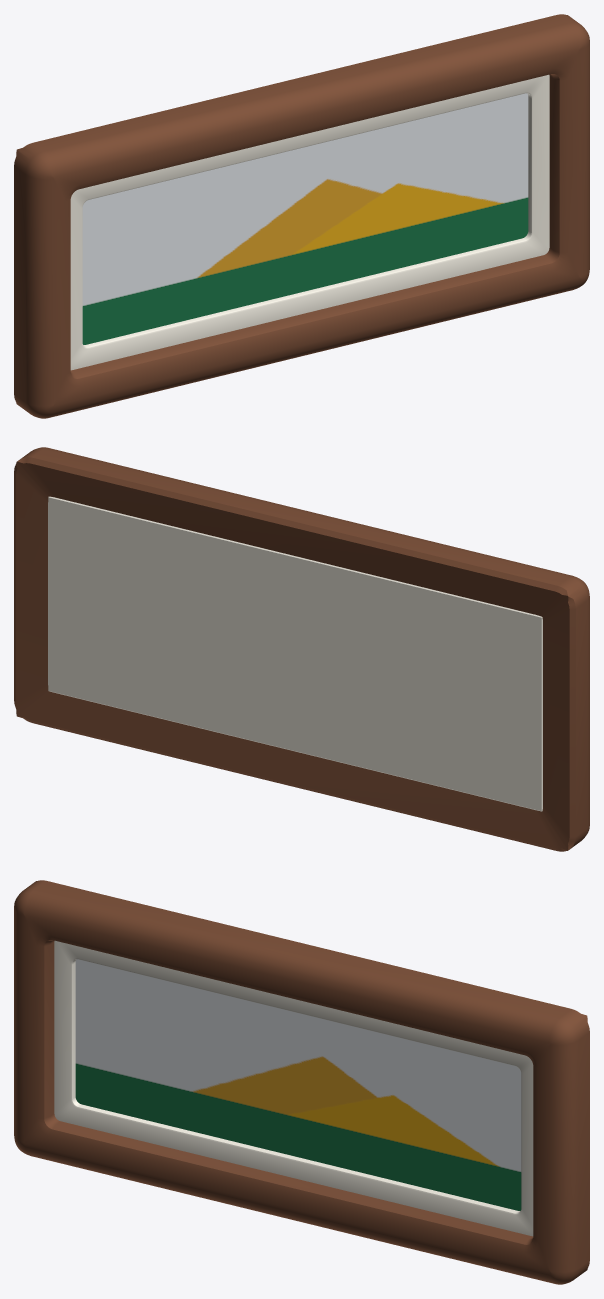
File: quadro_faixa_duna.glb
The picture shows the model from 3 angles, top to bottom: view 1: azimuth 30°, elevation 25°; view 2: azimuth 150°, elevation 25°; view 3: azimuth 330°, elevation 25°; orthographic projection.
Parts seen in each view (by area): view 1: quadro_faixa_duna; view 2: quadro_faixa_duna; view 3: quadro_faixa_duna.
Boxes of the visible parts, x1,y1,x2,y2 form: quadro_faixa_duna: (14, 14, 589, 418); quadro_faixa_duna: (14, 447, 589, 851); quadro_faixa_duna: (14, 880, 589, 1284).
Size of the model in its own units: 0.376 by 0.1698 by 0.028.
2 materials, 2 textured.
